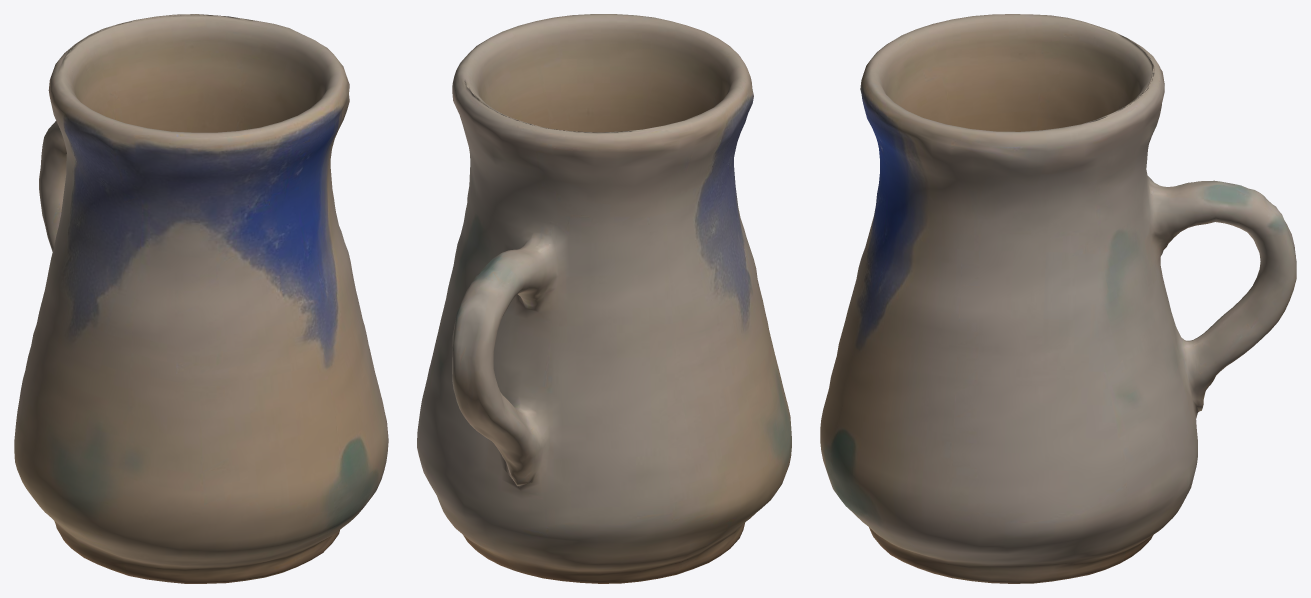
Rendered from cup.glb.
3 renders of one model, left to right at view 1: azimuth 30°, elevation 25°; view 2: azimuth 150°, elevation 25°; view 3: azimuth 270°, elevation 25°, orthographic.
Parts seen in each view (by area): view 1: tripo_node_03a05f10-8d09-4789-9f67-2bc09a341741; view 2: tripo_node_03a05f10-8d09-4789-9f67-2bc09a341741; view 3: tripo_node_03a05f10-8d09-4789-9f67-2bc09a341741.
Boxes of the visible parts, left/top/right/bottom form: tripo_node_03a05f10-8d09-4789-9f67-2bc09a341741: left=14, top=14, right=388, bottom=583; tripo_node_03a05f10-8d09-4789-9f67-2bc09a341741: left=417, top=14, right=791, bottom=583; tripo_node_03a05f10-8d09-4789-9f67-2bc09a341741: left=820, top=14, right=1296, bottom=583.
Size of the model in its own units: 0.1649 by 0.22 by 0.2097.
1 material, 1 textured.
